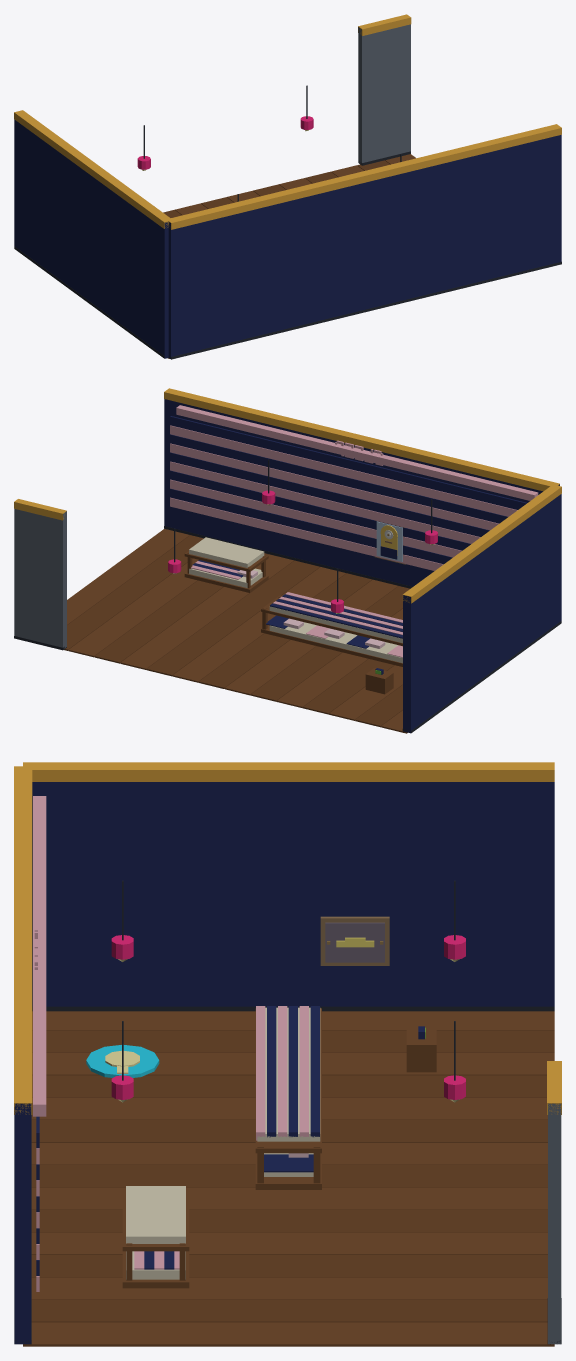
The model's file is sleeping.glb.
The picture shows the model from 3 angles, top to bottom: view 1: azimuth 30°, elevation 25°; view 2: azimuth 150°, elevation 25°; view 3: azimuth 270°, elevation 25°; orthographic projection. The views are drawn at different scales.
Visible parts, largest first — view 1: sleeping; view 2: sleeping; view 3: sleeping.
Boxes of the visible parts, box(x1,y1,x2,y2) form: sleeping: box(14, 14, 561, 359); sleeping: box(14, 388, 561, 733); sleeping: box(14, 762, 561, 1346).
Size of the model in its own units: 24.28 by 8.1 by 16.5.
